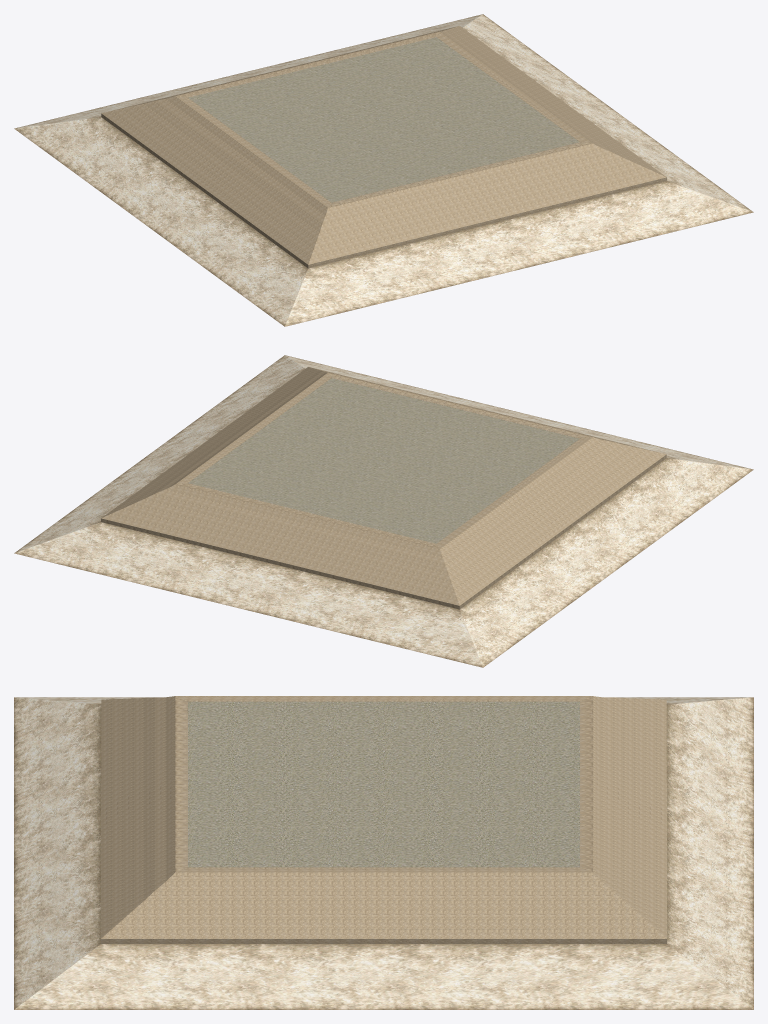
Rendered from ply_tato_garden_med_s01_l1.fbx.
3 renders of one model, top to bottom at view 1: azimuth 30°, elevation 25°; view 2: azimuth 150°, elevation 25°; view 3: azimuth 270°, elevation 25°, orthographic. The views are drawn at different scales.
Visible parts, largest first — view 1: mesh_node; view 2: mesh_node; view 3: mesh_node.
Boxes of the visible parts, bbox=[...] form: mesh_node: bbox=[14, 14, 753, 326]; mesh_node: bbox=[14, 355, 753, 667]; mesh_node: bbox=[14, 696, 753, 1009].
Bounding box in the file's own units: 34 × 3.51 × 34.
